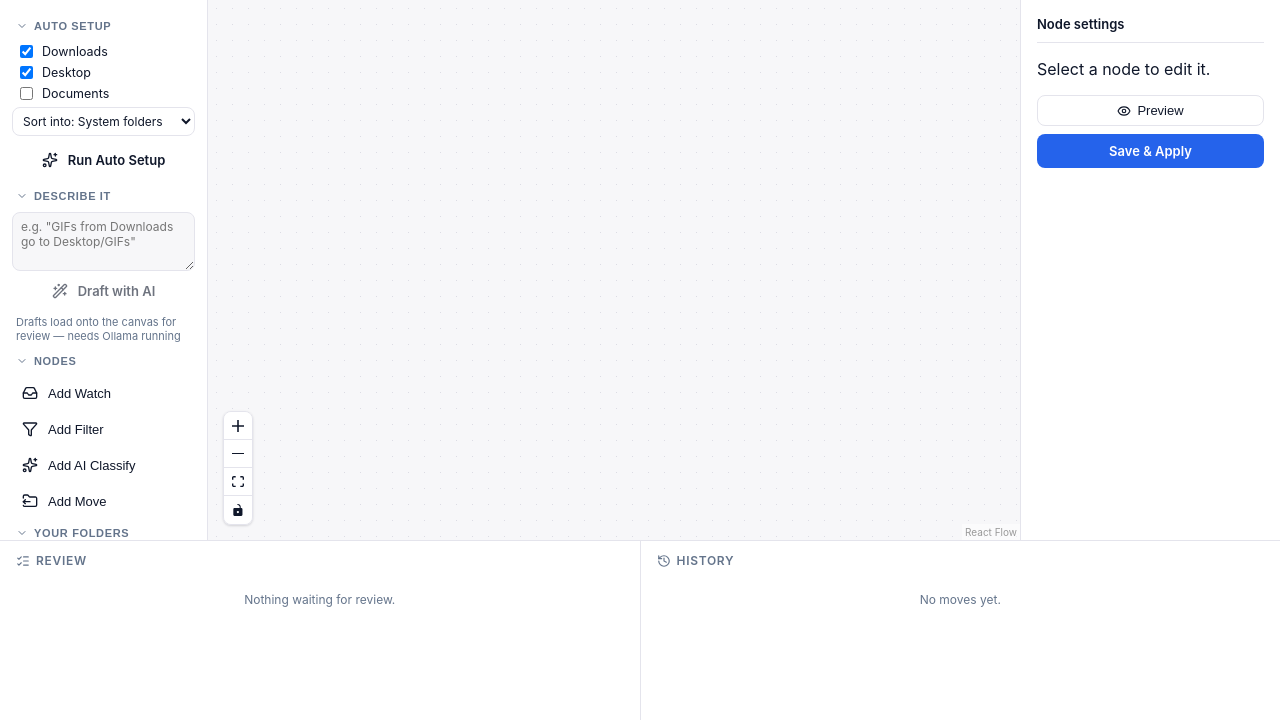
Test: Auto Setup UI › shows error banner when autoSetup rejects
This screenshot has width=1280, height=720.
Click the button "Run Auto Setup": (104, 160) x1=12 y1=144 x2=195 y2=176
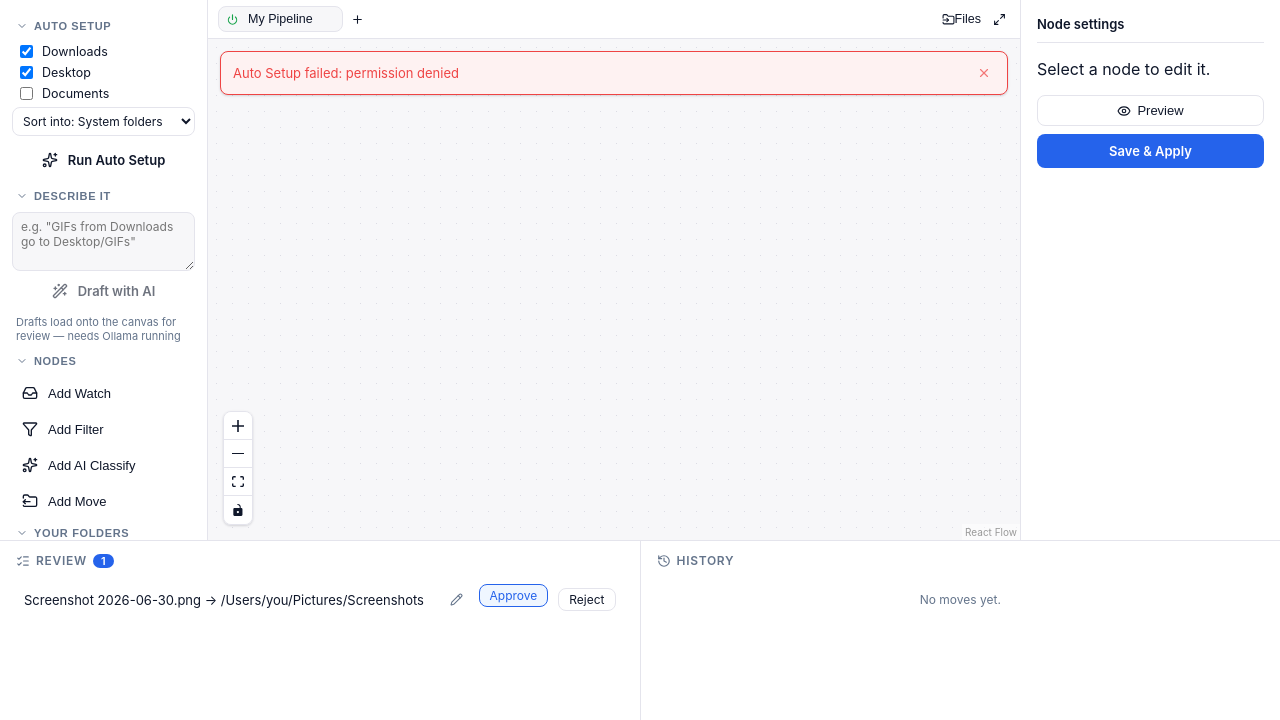
Check: the text "Auto Setup failed: permission denied" is shown, box x1=233 y1=65 x2=459 y2=81
